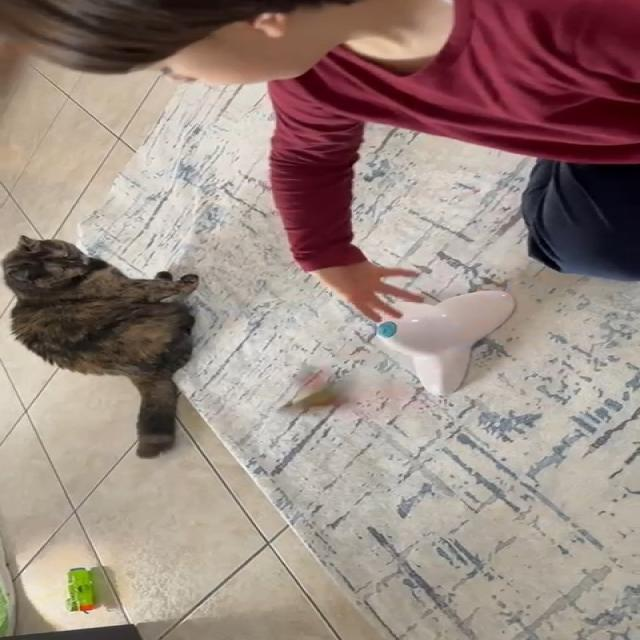authorized: (0, 234, 199, 458)
